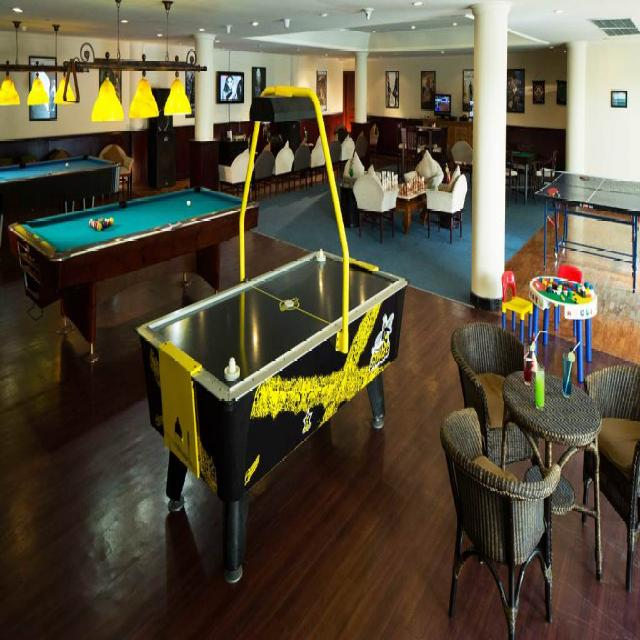Billiard table: (7, 190, 259, 364), (0, 157, 119, 256)
